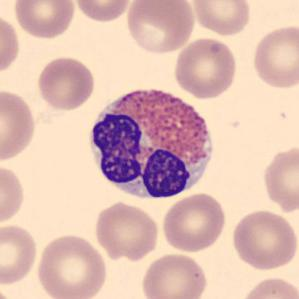Eosinophil: (83, 79, 222, 207)
RBC: (34, 231, 109, 299), (229, 207, 298, 272), (172, 35, 239, 100), (160, 191, 228, 254), (92, 200, 161, 261), (123, 0, 197, 55), (35, 54, 96, 111), (140, 251, 210, 299), (250, 22, 298, 91), (0, 86, 38, 163), (260, 142, 299, 215), (11, 0, 77, 40), (0, 221, 39, 286), (188, 0, 253, 37), (0, 162, 27, 228), (238, 275, 298, 299), (72, 0, 134, 23), (0, 11, 21, 77)
